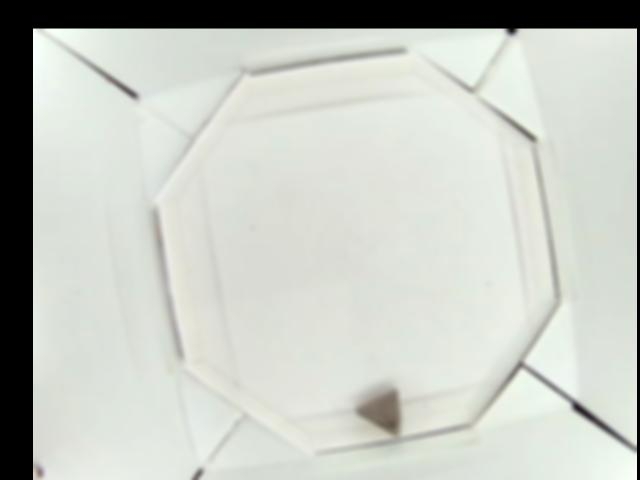China: (354, 387, 402, 439)
